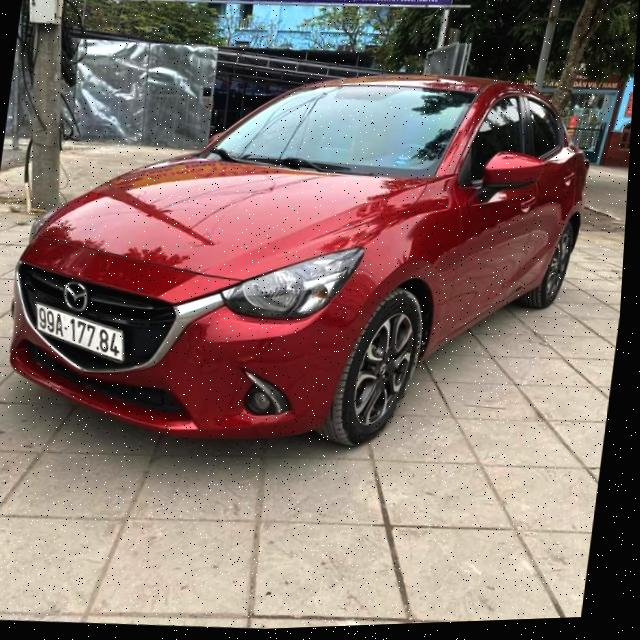car: (0, 34, 617, 480)
plate: (27, 297, 132, 367)
